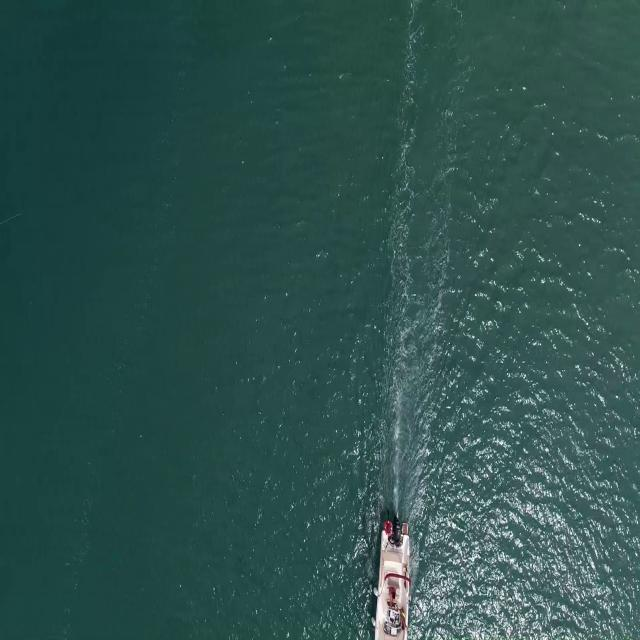boat: (371, 534, 412, 640)
life_buoy: (383, 517, 395, 536)
person: (398, 610, 409, 633), (388, 586, 398, 610)
